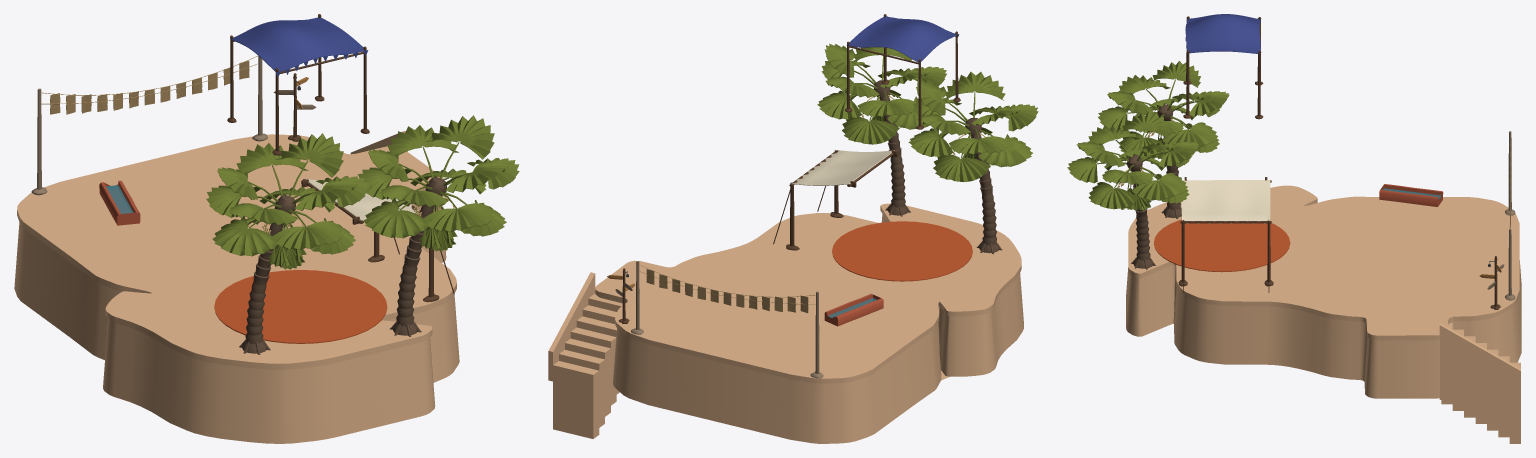
The model's file is nomad_hearth_plaza.fbx.
3 renders of one model, left to right at view 1: azimuth 30°, elevation 25°; view 2: azimuth 150°, elevation 25°; view 3: azimuth 270°, elevation 25°, orthographic. The views are drawn at different scales.
Parts seen in each view (by area): view 1: NomadHearthPlaza; view 2: NomadHearthPlaza; view 3: NomadHearthPlaza.
Part boxes in pixels (bbox=[...]): NomadHearthPlaza: bbox=[14, 14, 519, 443]; NomadHearthPlaza: bbox=[548, 14, 1038, 443]; NomadHearthPlaza: bbox=[1067, 14, 1521, 443].
Bounding box in the file's own units: 2211 × 2223 × 2778.
